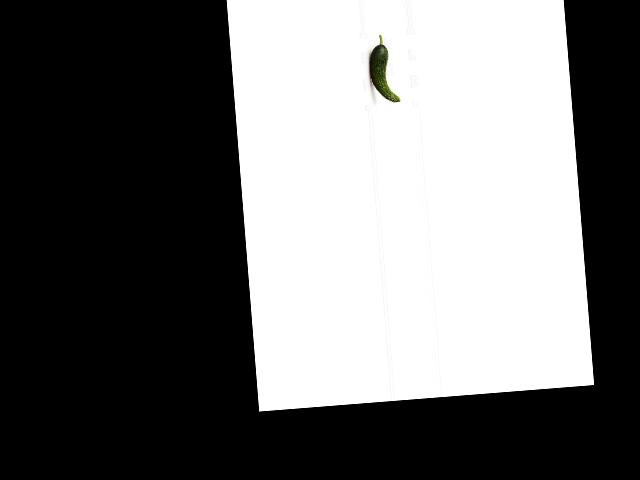cucumber: (367, 33, 400, 103)
